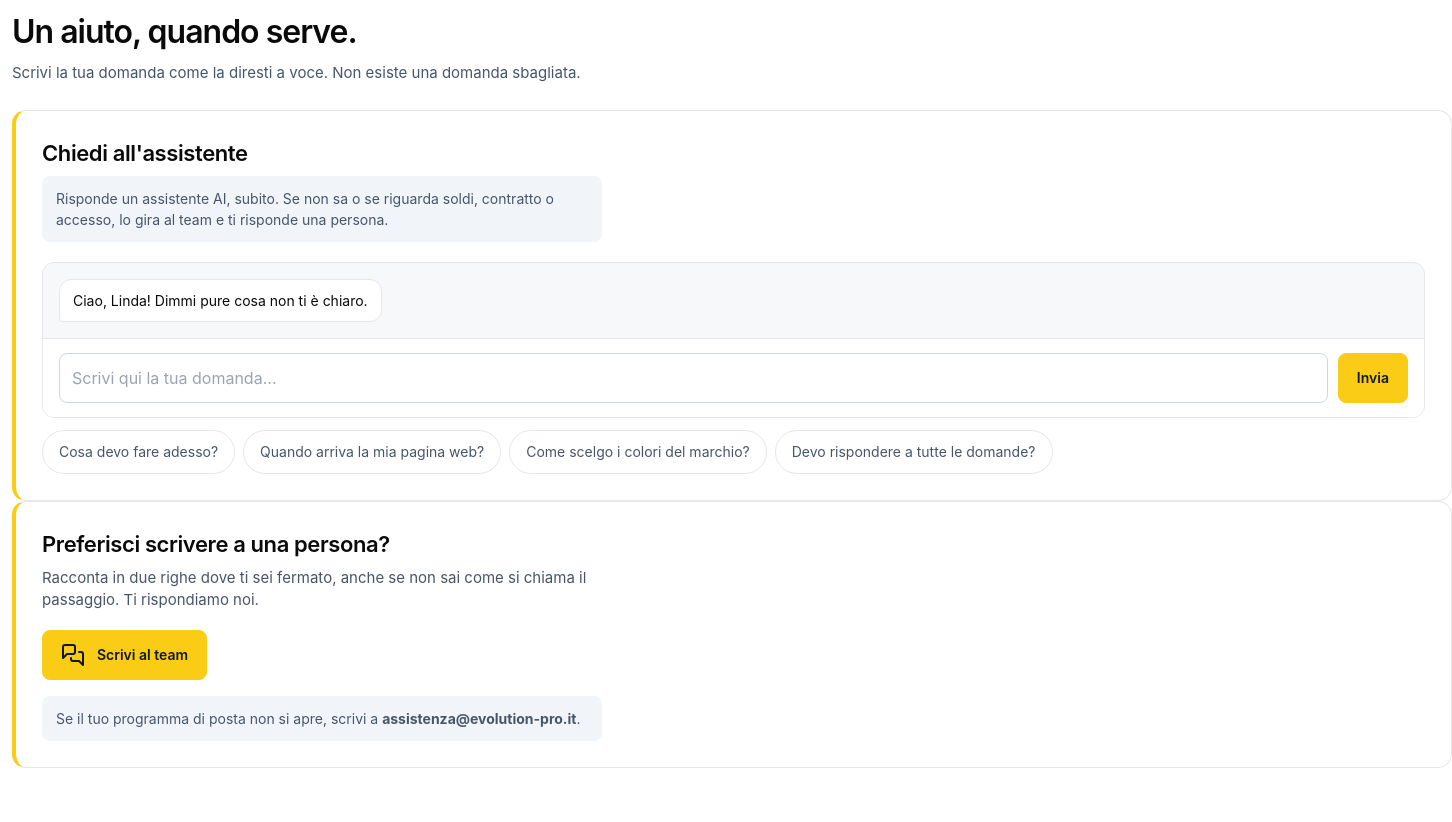
Test case: mostra la risposta mentre arriva e manda la storia al server
The image size is (1452, 822).
Later steps or results of the test are not shown.
Type "Come scelgo i colori?" into the field labelled "la tua domanda" at (693, 378), box [59,352,1328,402]
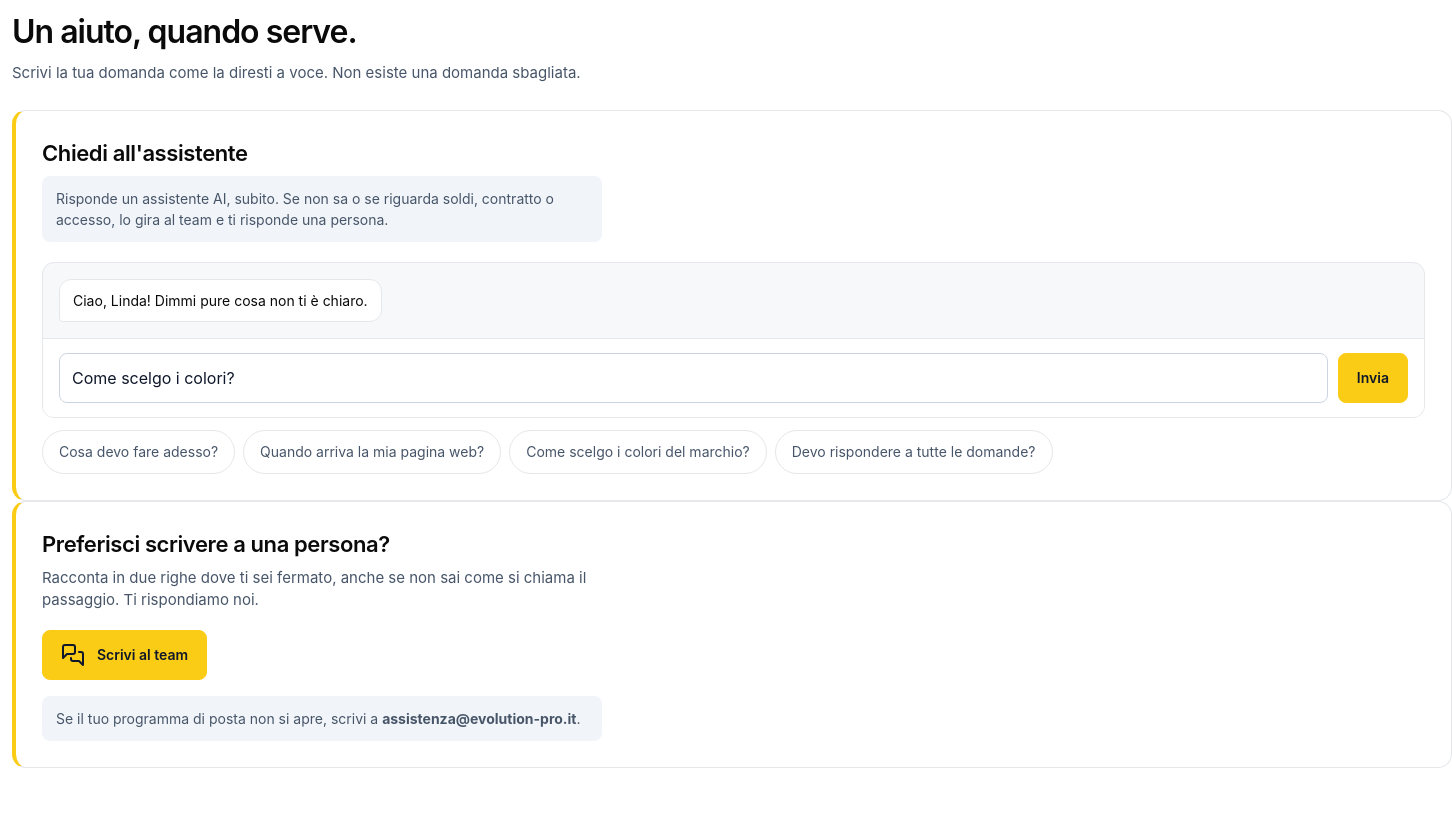
Click the button "Invia" at (1373, 378), box [1338,352,1408,402]
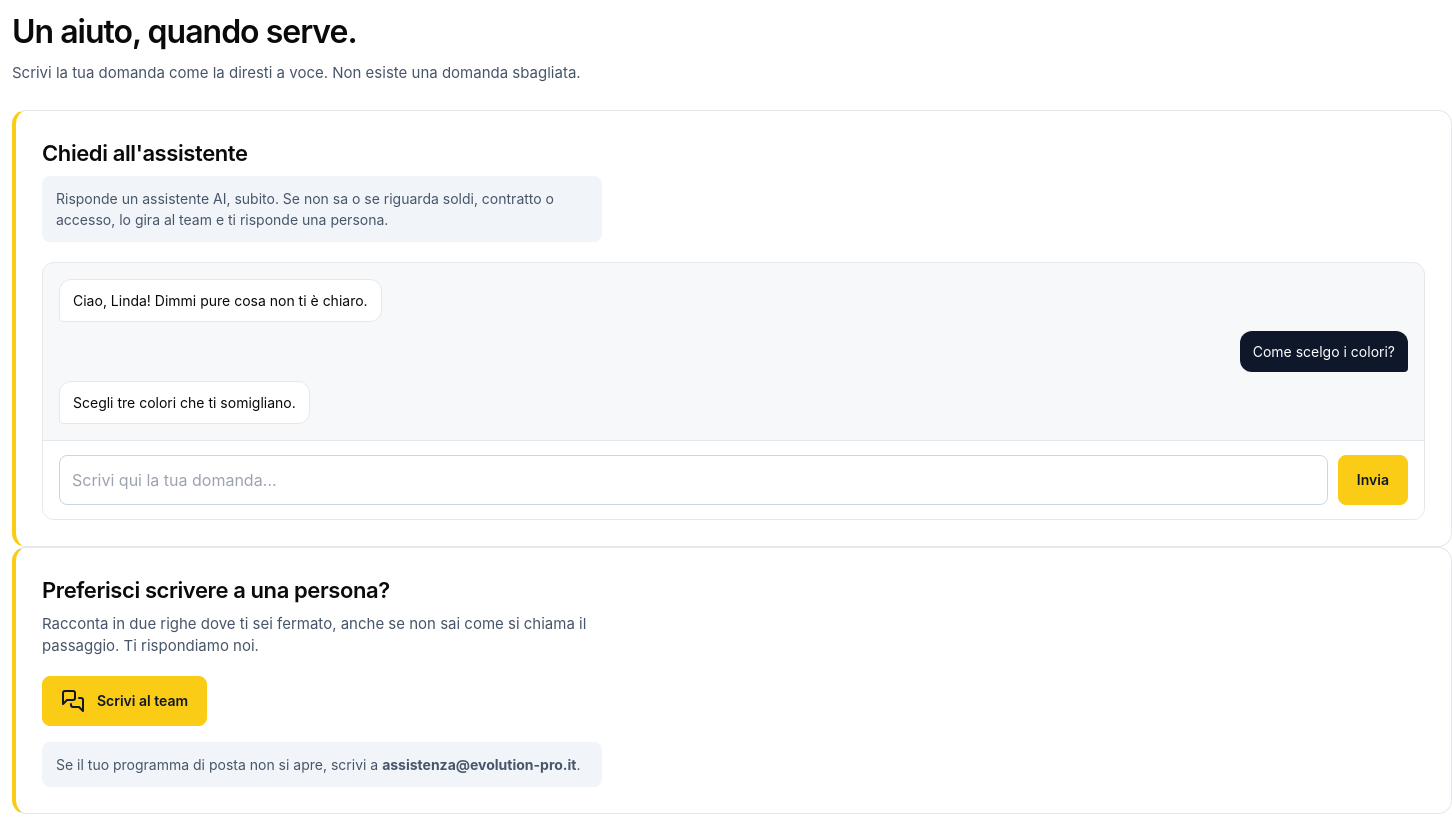
Expected: the text "Scegli tre colori che ti somigliano." is shown, [59,380,310,424]
Expected: the text "Come scelgo i colori?" is shown, [1240,330,1408,372]
